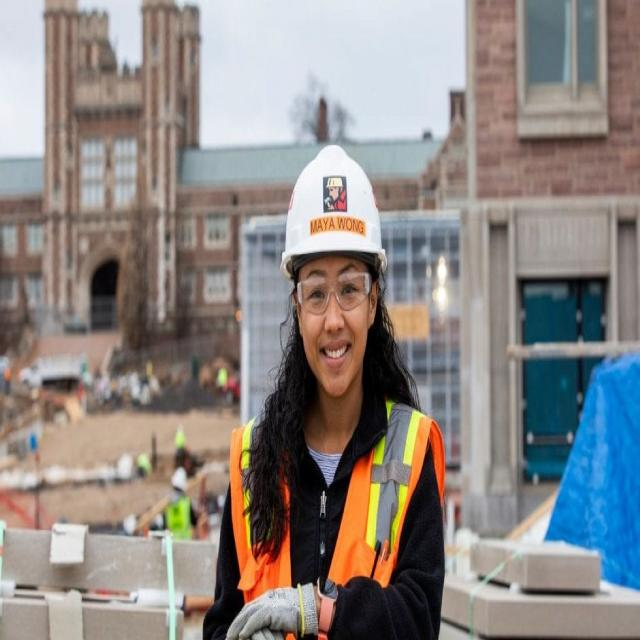Reflective-Jacket: (222, 394, 443, 640)
Safety-Helmet: (275, 136, 392, 277)
